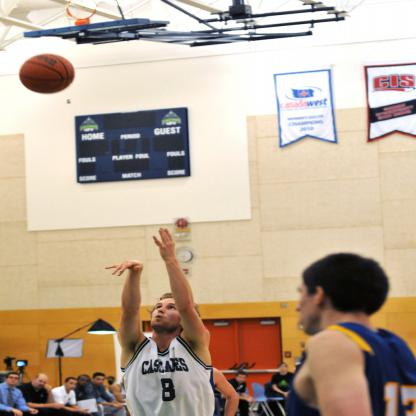Ball: (18, 54, 74, 94)
